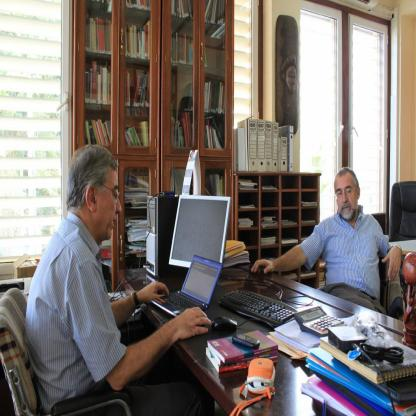board: (151, 253, 223, 317)
